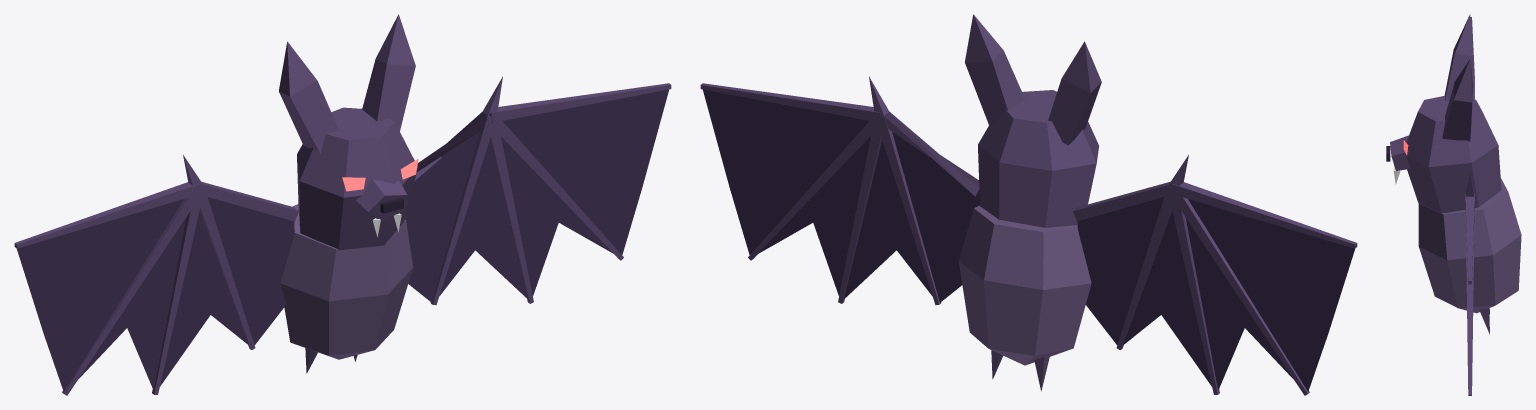
The model's file is bat.glb.
3 renders of one model, left to right at view 1: azimuth 30°, elevation 25°; view 2: azimuth 150°, elevation 25°; view 3: azimuth 270°, elevation 25°, orthographic. The views are drawn at different scales.
Visible parts, largest first — view 1: wing_l_mesh, wing_r_mesh, body_mesh; view 2: wing_l_mesh, wing_r_mesh, body_mesh; view 3: body_mesh, wing_r_mesh, wing_l_mesh.
Part boxes in pixels (box(x1,y1,x2,y2)): wing_l_mesh: box(14, 155, 298, 395); wing_r_mesh: box(405, 76, 671, 305); body_mesh: box(279, 14, 418, 373); wing_l_mesh: box(1073, 155, 1357, 395); wing_r_mesh: box(700, 76, 979, 305); body_mesh: box(958, 14, 1101, 391); body_mesh: box(1386, 14, 1521, 334); wing_r_mesh: box(1465, 173, 1474, 395); wing_l_mesh: box(1468, 17, 1474, 99).
Bounding box in the file's own units: 0.9404 × 0.48 × 0.2034.
